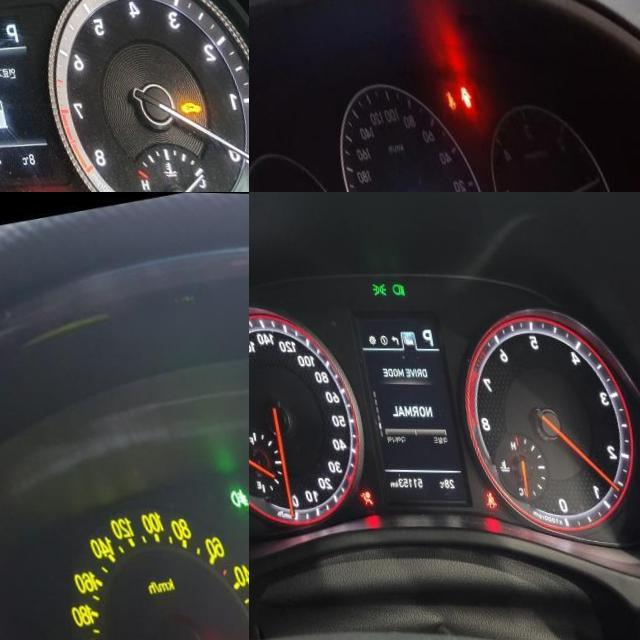Doors: (451, 82, 468, 105)
FrontFogLight: (216, 484, 240, 508)
Low beam: (386, 282, 400, 294)
SideLamp: (366, 281, 381, 295)
